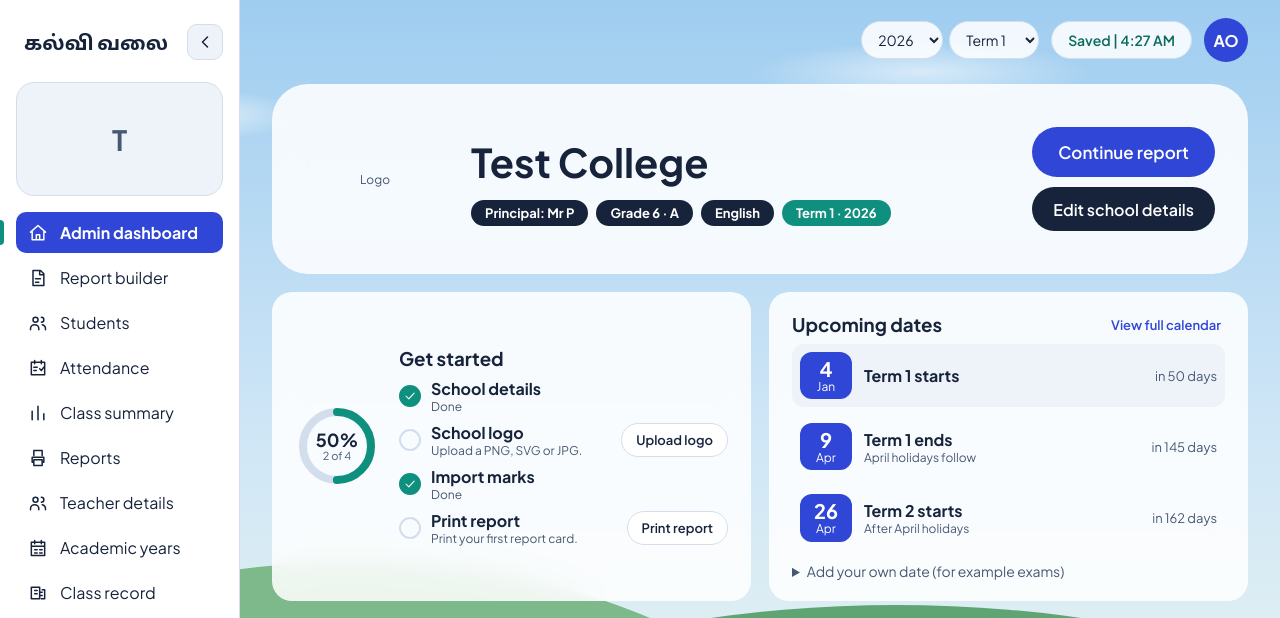
Scenario: admin, teacher and student dashboards › shows class record students as profiles and opens complete student details
The image size is (1280, 618).
Later steps or results of the test are not shown.
Step 1. Click the button "Class record" → (120, 592), box [16,572,223,613]
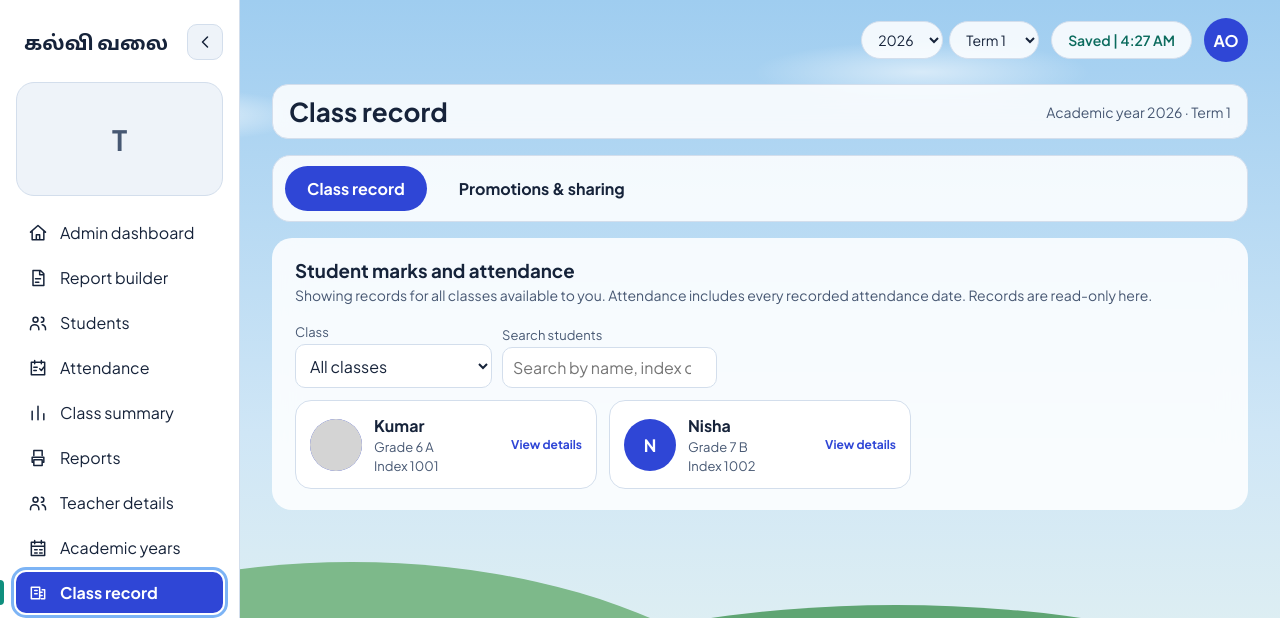
Step 2. Select "All classes" in the dropdown named "Class record class" → (394, 366), box [295,344,492,388]
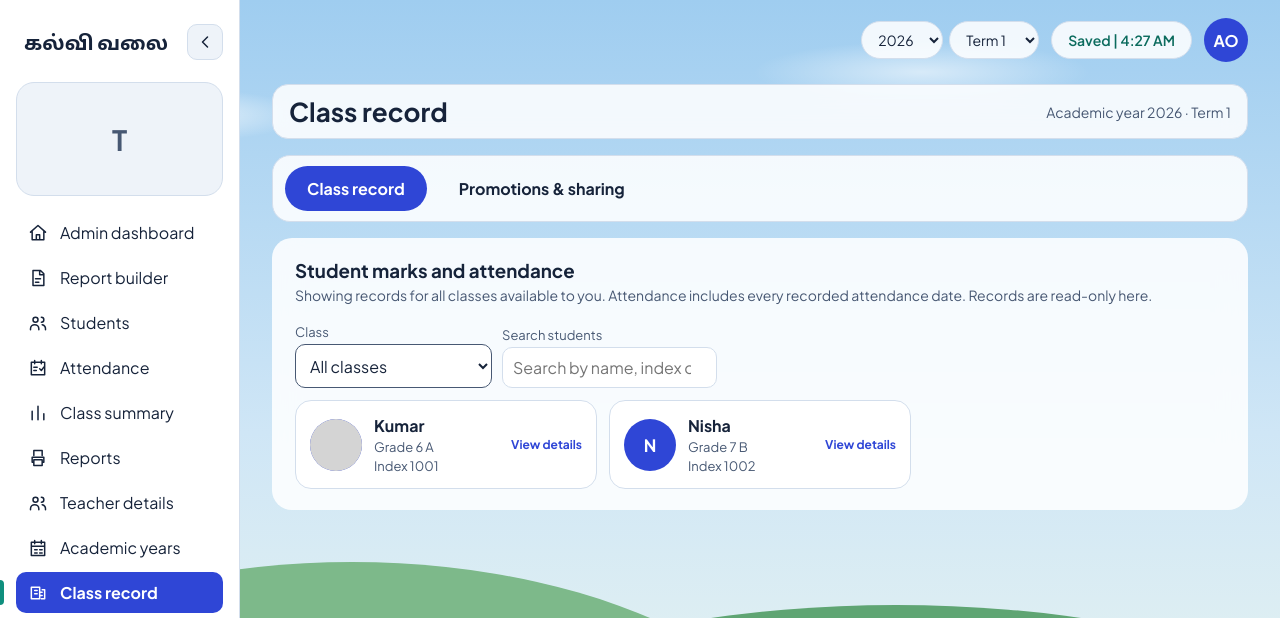
Result: the button with aria-label "View student details for Nisha" is shown at [609,400,911,489]
Step 3. Click the button with aria-label "View student details for Kumar" → (336, 444), box [295,400,597,489]
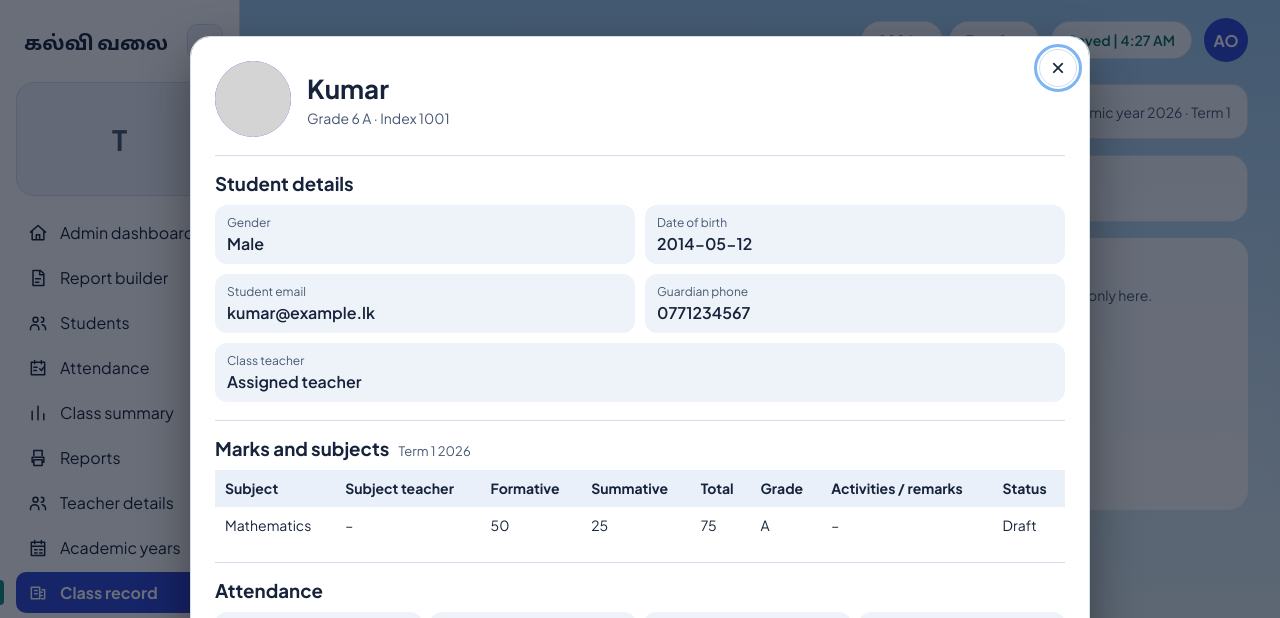
Result: the text "kumar@example.lk" is shown at [227,302,375,323]
Result: the text "0771234567" is shown at [657,302,750,323]
Result: the text "2014-05-12" is shown at [657,233,752,254]
